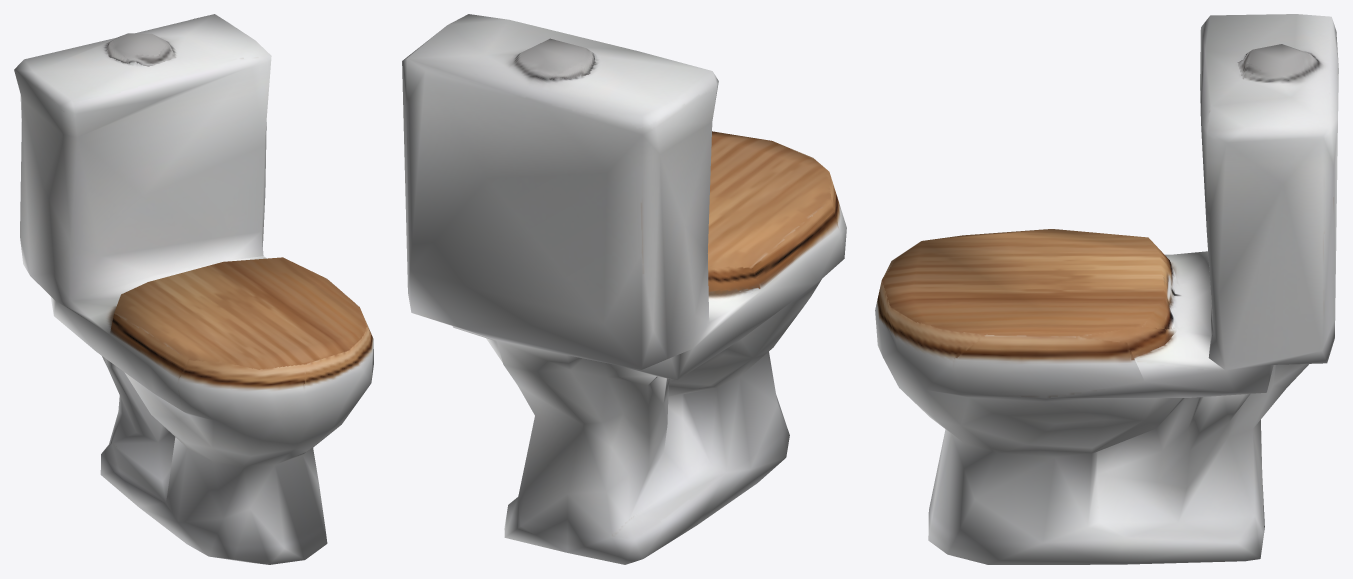
File: cottage-toilet.glb
3 renders of one model, left to right at view 1: azimuth 30°, elevation 25°; view 2: azimuth 150°, elevation 25°; view 3: azimuth 270°, elevation 25°, orthographic. The views are drawn at different scales.
Visible parts, largest first — view 1: geometry_0.001; view 2: geometry_0.001; view 3: geometry_0.001.
Part boxes in pixels (x1,y1,x2,y2): geometry_0.001: (14, 14, 373, 564); geometry_0.001: (402, 14, 846, 564); geometry_0.001: (875, 14, 1338, 564).
Bounding box in the file's own units: 0.5316 × 1 × 0.8745.
1 material, 1 textured.
